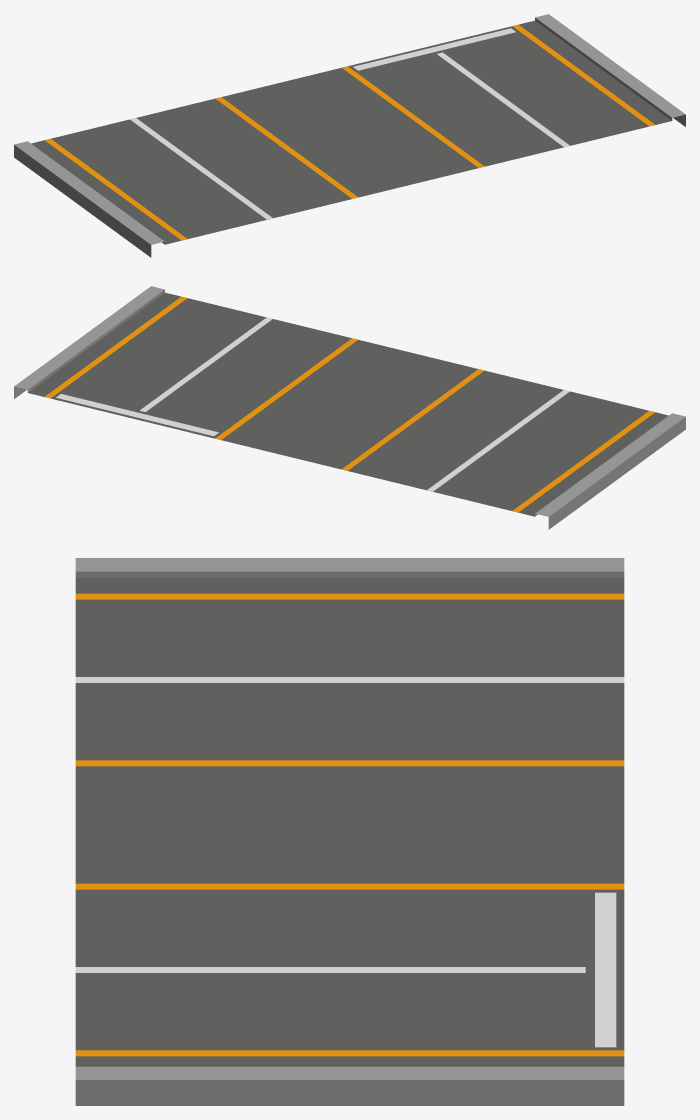
File: Road_B_2L_1_7.glb
The picture shows the model from 3 angles, top to bottom: view 1: azimuth 30°, elevation 25°; view 2: azimuth 150°, elevation 25°; view 3: azimuth 270°, elevation 25°; orthographic projection. The views are drawn at different scales.
Visible parts, largest first — view 1: Road_B_2L_1_7; view 2: Road_B_2L_1_7; view 3: Road_B_2L_1_7.
Part boxes in pixels (x1,y1,x2,y2): Road_B_2L_1_7: (14,14,685,257); Road_B_2L_1_7: (14,286,685,529); Road_B_2L_1_7: (75,558,624,1105).
Size of the model in its own units: 18 by 0.4148 by 8.
Materials: 1 (1 with a texture image).
